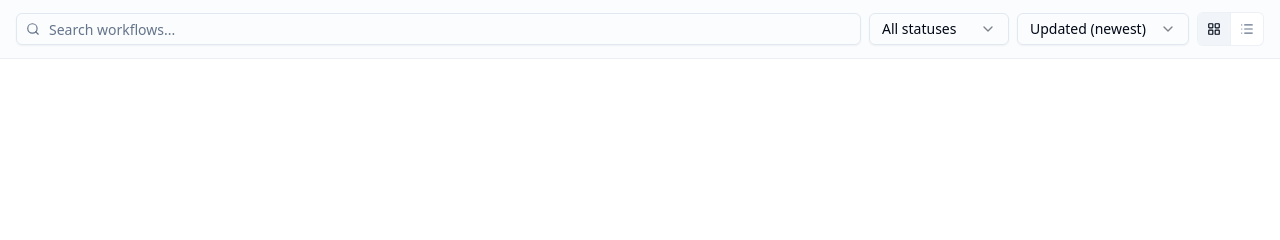
Test: WorkflowToolbar — status filter › shows all status options when the select is opened
# Use fireEvent to avoid Radix's internal pointer-capture throw
What coordinates should you click on to do the following:
click the dropdown named "Filter by status"
I would click on:
 (939, 29)
Its box is [869,13,1009,45].
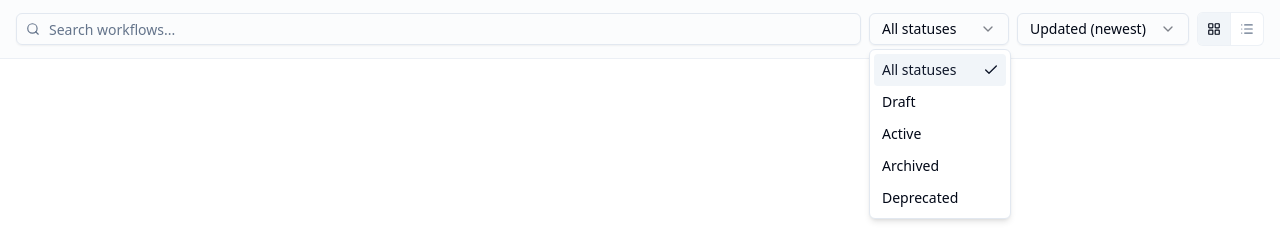
Now the option "All statuses" is shown, box [874,54,1006,86]
Now the option "Draft" is shown, box [882,92,916,111]
Now the option "Active" is shown, box [882,124,921,143]
